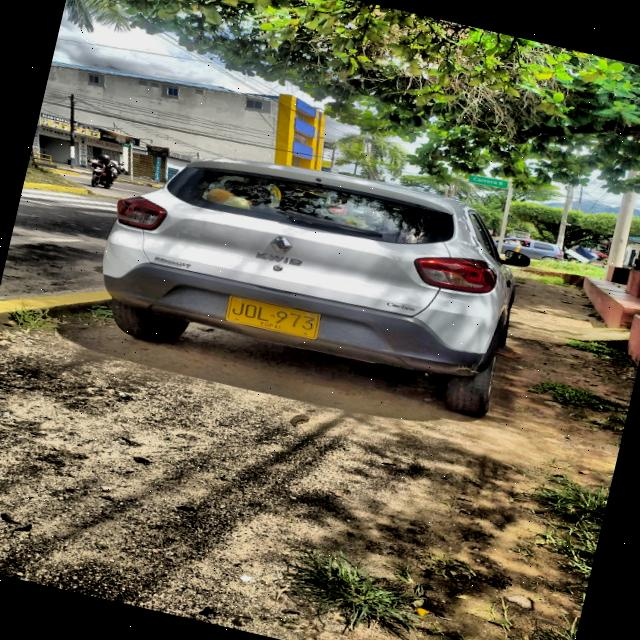3: (299, 314, 316, 332)
7: (286, 311, 303, 329)
9: (274, 309, 290, 326)
J: (230, 300, 246, 316)
L: (256, 305, 272, 322)
O: (242, 302, 258, 320)
